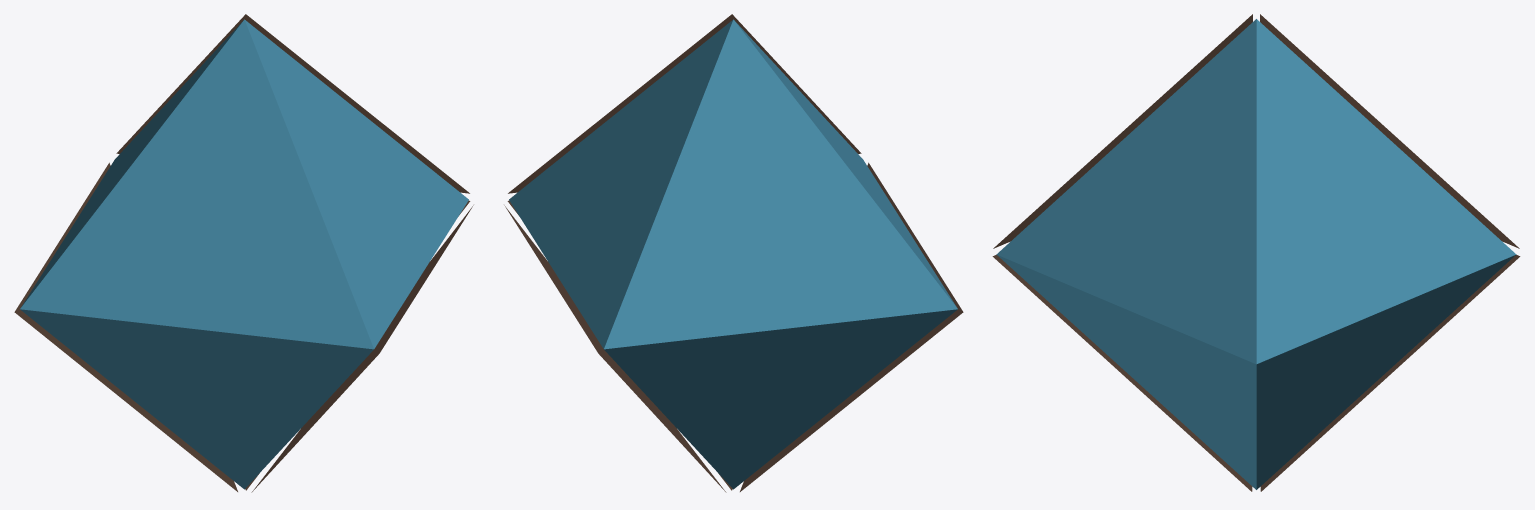
Rendered from prop_102.glb.
3 views of the same model, side by side, from view 1: azimuth 30°, elevation 25°; view 2: azimuth 150°, elevation 25°; view 3: azimuth 270°, elevation 25° (orthographic).
Parts seen in each view (by area): view 1: prop_102; view 2: prop_102; view 3: prop_102.
Part boxes in pixels (x1,y1,x2,y2): prop_102: (14, 14, 473, 492); prop_102: (504, 14, 963, 492); prop_102: (992, 14, 1520, 491).
Bounding box in the file's own units: 0.83 × 0.83 × 0.83.
